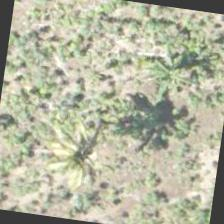Kelapa_Sawit: (20, 108, 122, 210)
